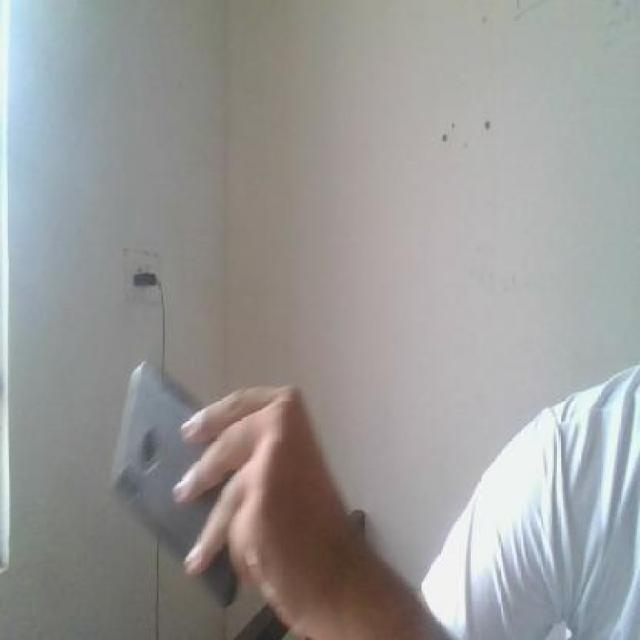Phone: (106, 356, 242, 612)
